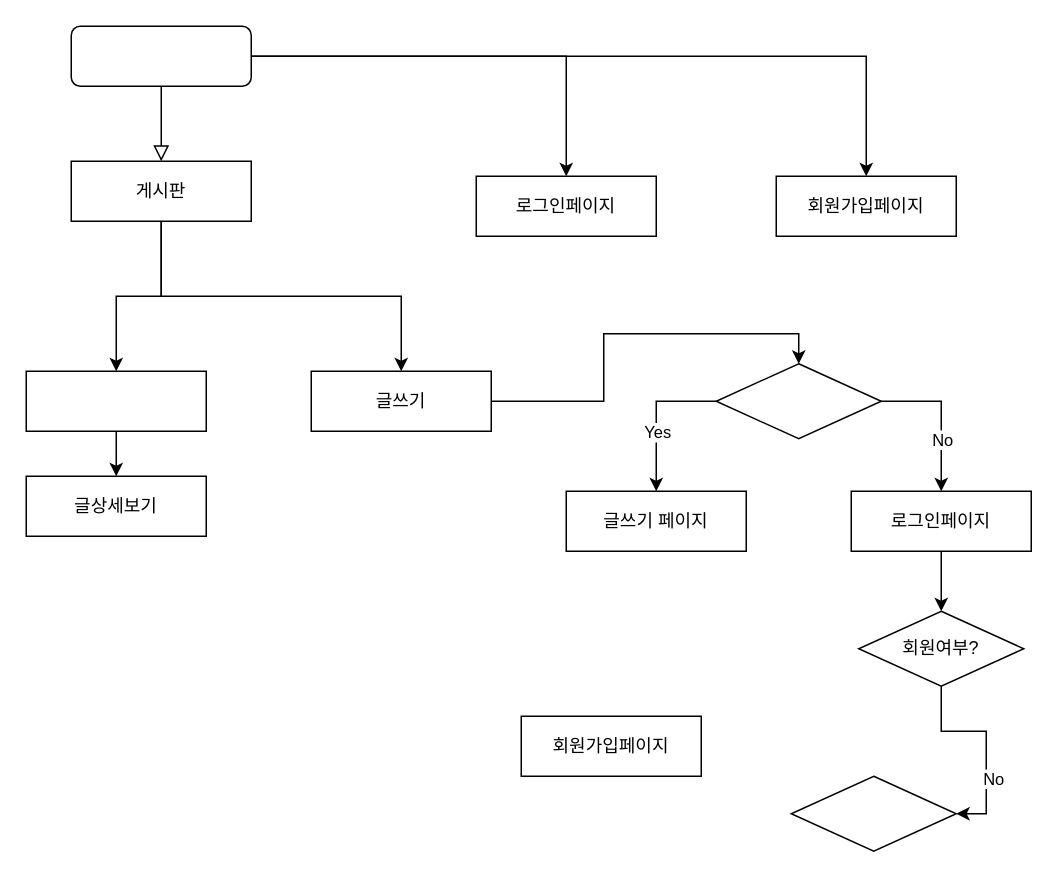
The diagram is 1058 pixels wide and 878 high, and some of its shapes have lost their labels. Here are the shapes that lost their labels. From the top down, the centre of each, then its label:
At point 160,55: "메인페이지 접속".
At point 115,400: "글목록".
At point 798,400: "로그인여부?".
At point 873,813: "회원가입희망?".
